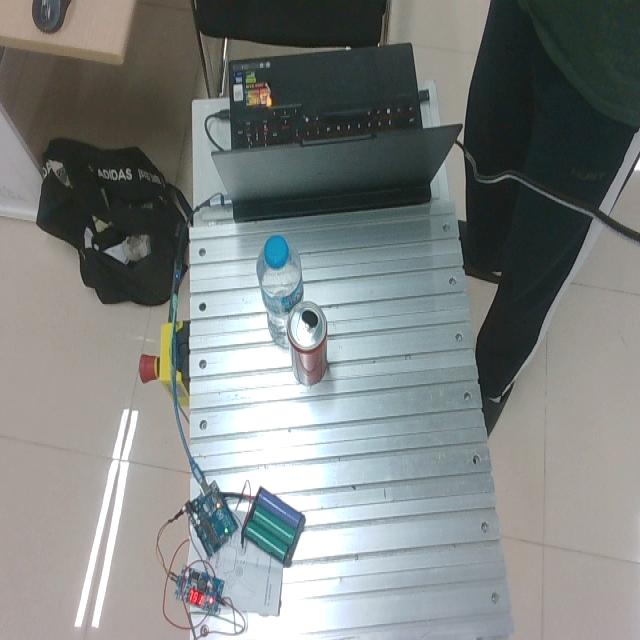coca: (286, 299, 328, 385)
lavie: (256, 233, 304, 347)
